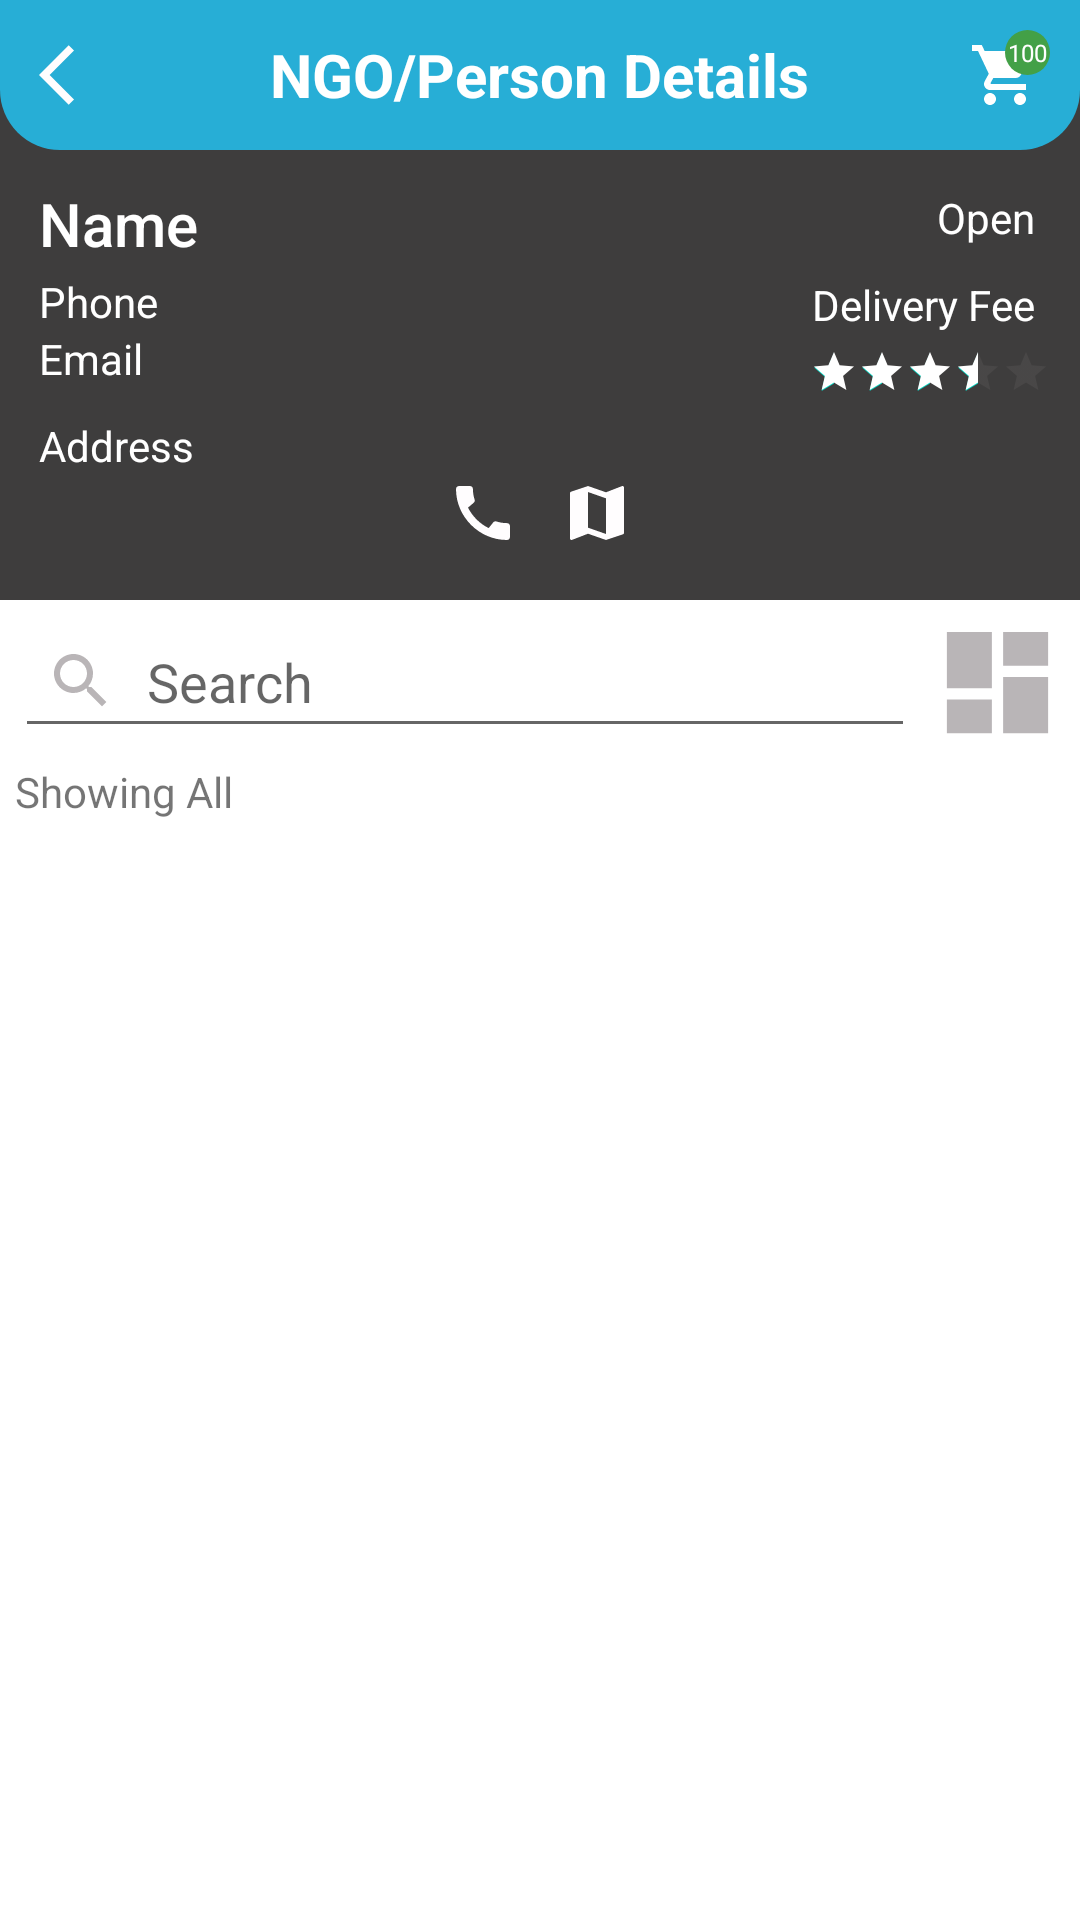

Named icons in this screenshot (1080×1920) and their centers, point (x, y):
back: point (56, 75)
call: point (483, 513)
cart: point (1011, 67)
map: point (597, 513)
